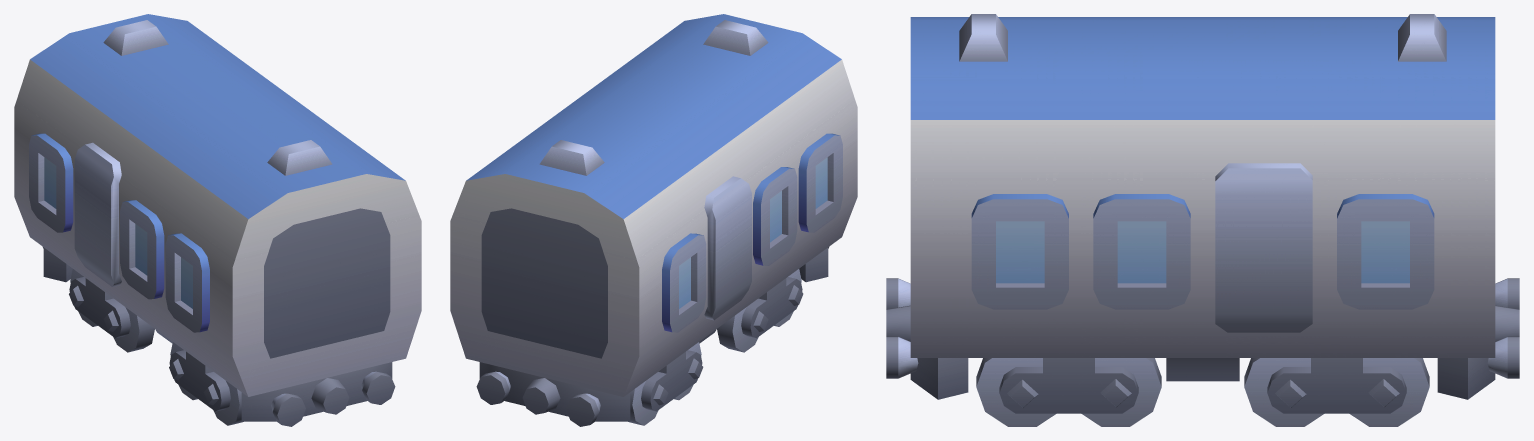
The model's file is train-electric-bullet-b.glb.
3 renders of one model, left to right at view 1: azimuth 30°, elevation 25°; view 2: azimuth 150°, elevation 25°; view 3: azimuth 270°, elevation 25°, orthographic. The views are drawn at different scales.
Parts seen in each view (by area): view 1: train-electric-bullet-b; view 2: train-electric-bullet-b; view 3: train-electric-bullet-b.
Part boxes in pixels (x1,y1,x2,y2): train-electric-bullet-b: (14,14,421,426); train-electric-bullet-b: (450,14,857,426); train-electric-bullet-b: (886,14,1519,426).
Size of the model in its own units: 1.3 by 1.64 by 2.6.
Materials: 1 (1 with a texture image).
